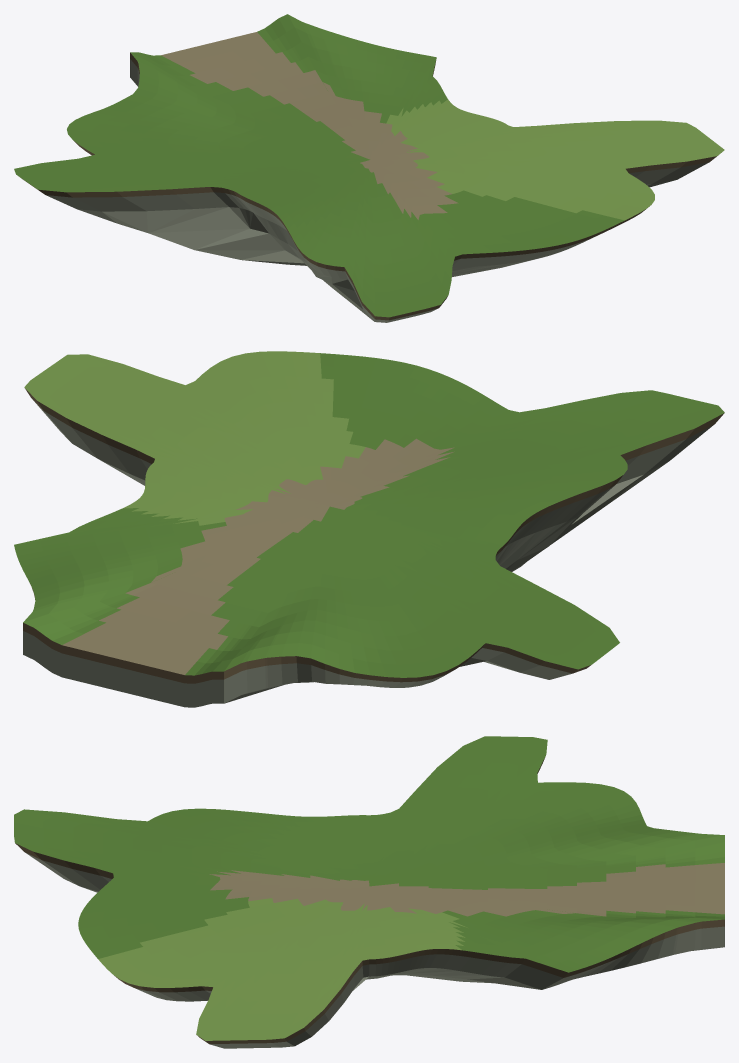
File: side_treasure_hollow_structure.fbx
The picture shows the model from 3 angles, top to bottom: view 1: azimuth 30°, elevation 25°; view 2: azimuth 150°, elevation 25°; view 3: azimuth 270°, elevation 25°; orthographic projection. The views are drawn at different scales.
Parts seen in each view (by area): view 1: chunk_side_treasure_hollow; view 2: chunk_side_treasure_hollow; view 3: chunk_side_treasure_hollow.
Part boxes in pixels (bbox=[...]): chunk_side_treasure_hollow: bbox=[14, 14, 724, 322]; chunk_side_treasure_hollow: bbox=[14, 351, 724, 707]; chunk_side_treasure_hollow: bbox=[14, 736, 724, 1048].
Bounding box in the file's own units: 256 × 36.5 × 256.
